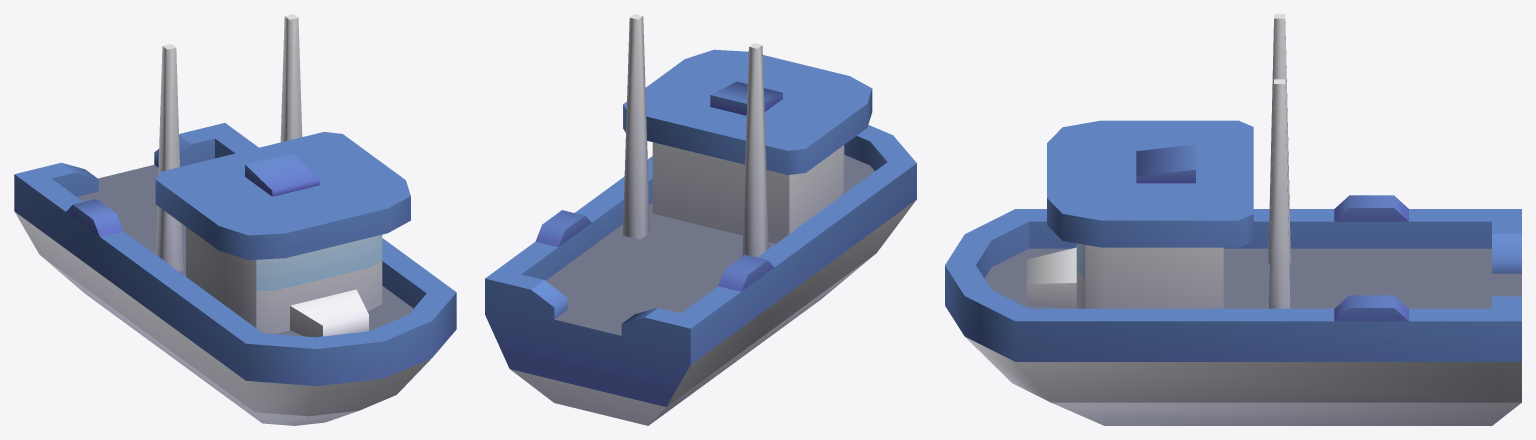
File: boat-fishing-small-transformed-transformed.glb
3 renders of one model, left to right at view 1: azimuth 30°, elevation 25°; view 2: azimuth 150°, elevation 25°; view 3: azimuth 270°, elevation 25°, orthographic. The views are drawn at different scales.
Parts seen in each view (by area): view 1: boat-fishing-small; view 2: boat-fishing-small; view 3: boat-fishing-small.
Part boxes in pixels (<box>): boat-fishing-small: <box>14,14,456,425</box>; boat-fishing-small: <box>485,14,916,425</box>; boat-fishing-small: <box>945,14,1521,425</box>.
Bounding box in the file's own units: 1.79 × 2.6 × 3.87.
1 material, 1 textured.
